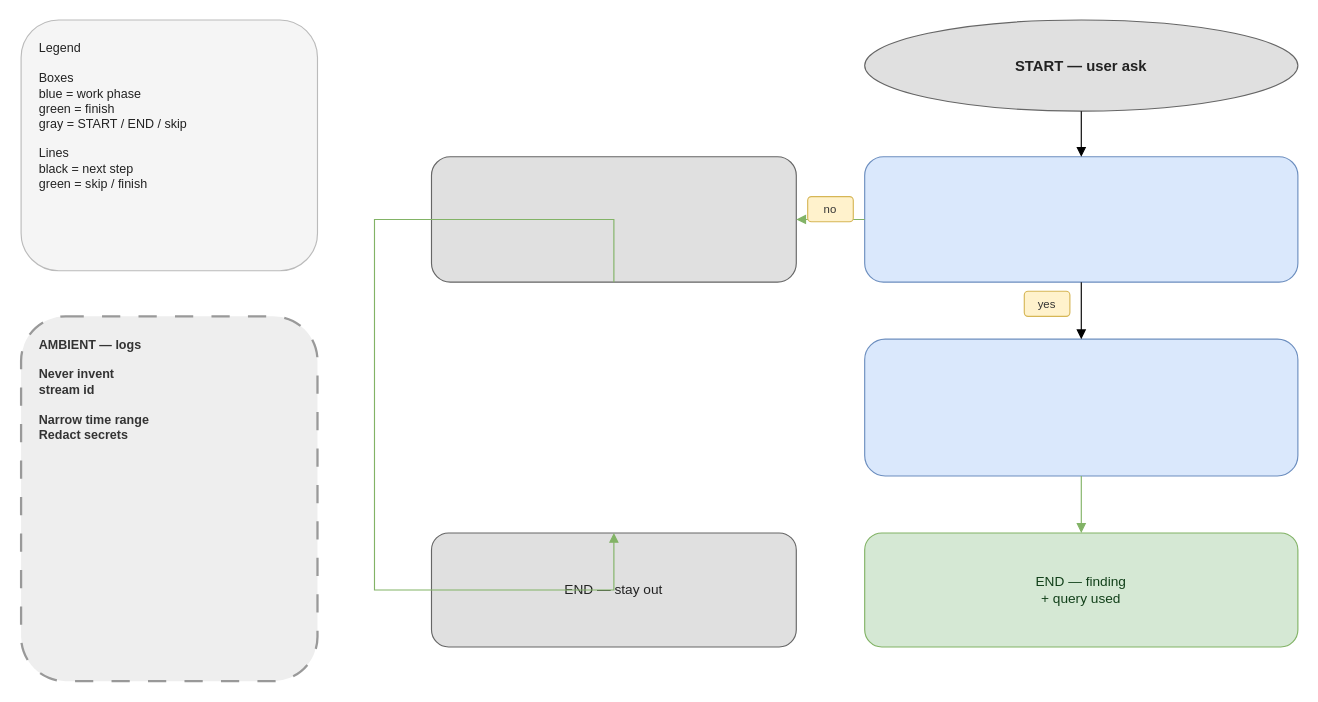
Some shapes in this 1318 by 702 pixel diagram are drawn without their labels. The shapes that lost their labels are listed below. From the top down, each one's centre as x and y in pixels, then its label:
At point (613, 219): "skip — no Graylog ordinary coding".
At point (1081, 219): "gate · Graylog? log search ask".
At point (1081, 407): "search / aggregate via MCP; summarize; no secret dumps".
